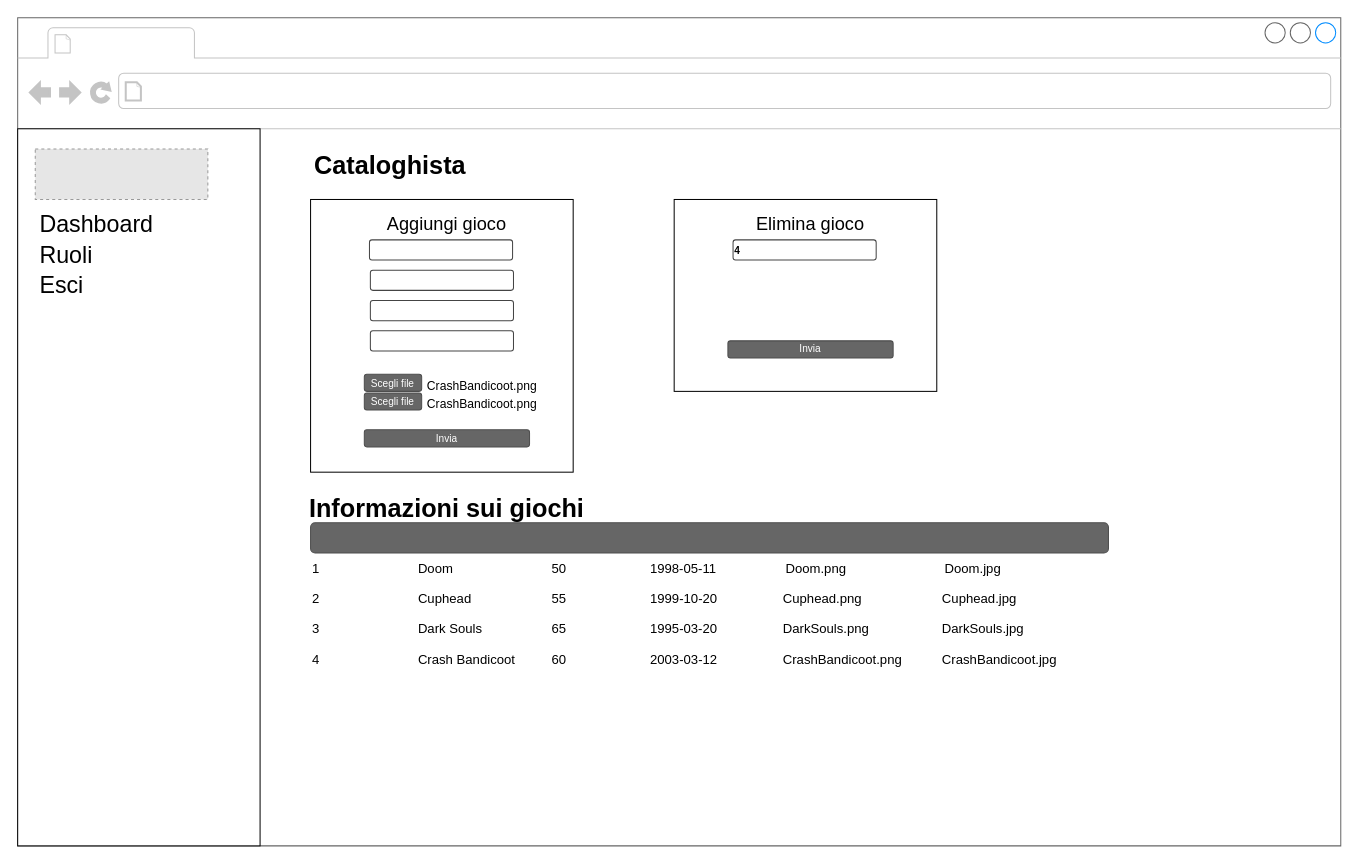
This 1358x864 diagram has some shape labels left out. Grey dashed boxes stand in for pictures. Each missing label, with the centre of its shape:
"https://www.default.com" goes at point (274, 91).
"ID gioco Nome gioco Prezzo gioco Data di rilascio Immagine gioco Copertina gioco" goes at point (709, 537).
"Page 1" goes at point (133, 42).
